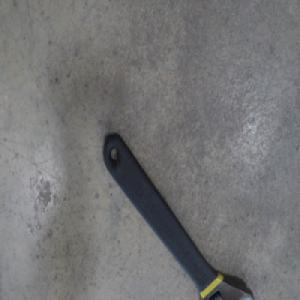AdjustableWrench: (102, 134, 255, 300)
